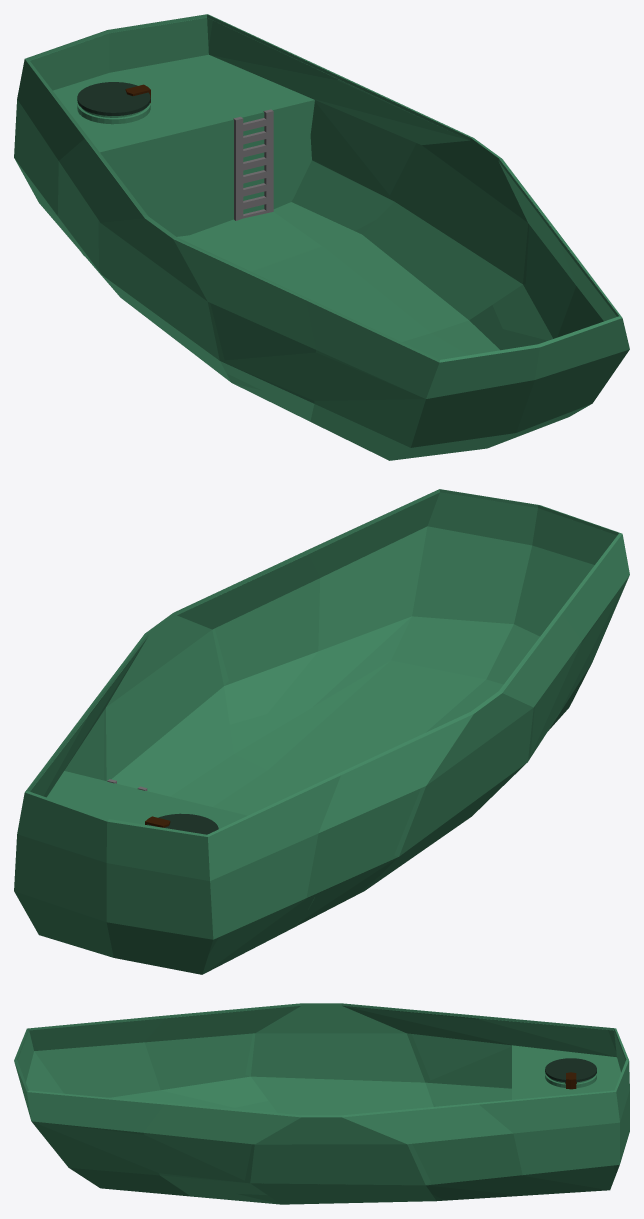
File: Boat.fbx
3 renders of one model, top to bottom at view 1: azimuth 30°, elevation 25°; view 2: azimuth 150°, elevation 25°; view 3: azimuth 270°, elevation 25°, orthographic. The views are drawn at different scales.
Visible parts, largest first — view 1: body, hatch, ladder.001, ladder; view 2: body, hatch; view 3: body, hatch.
Part boxes in pixels (<box>): body: <box>14,14,629,460</box>; hatch: <box>77,82,150,124</box>; ladder.001: <box>233,116,266,220</box>; ladder: <box>263,109,273,213</box>; body: <box>14,489,629,974</box>; hatch: <box>145,813,218,834</box>; body: <box>14,1003,629,1204</box>; hatch: <box>545,1058,596,1089</box>.
Bounding box in the file's own units: 260 × 123 × 594.
